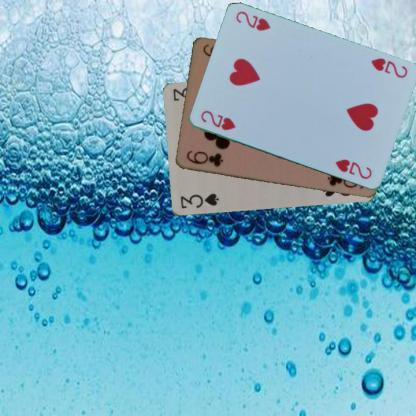2h: (368, 55, 408, 80), (197, 108, 237, 132)
3s: (178, 191, 221, 210)
6c: (183, 148, 224, 168)
